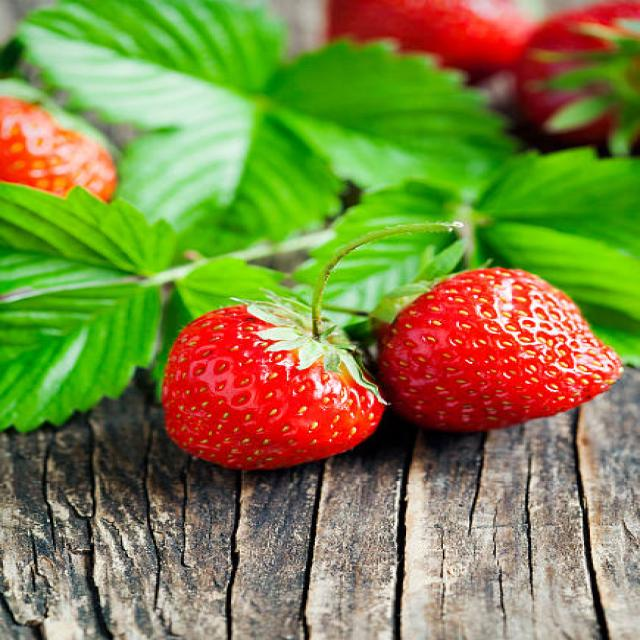Healthy Fruit: (376, 267, 622, 429), (160, 305, 380, 467)
